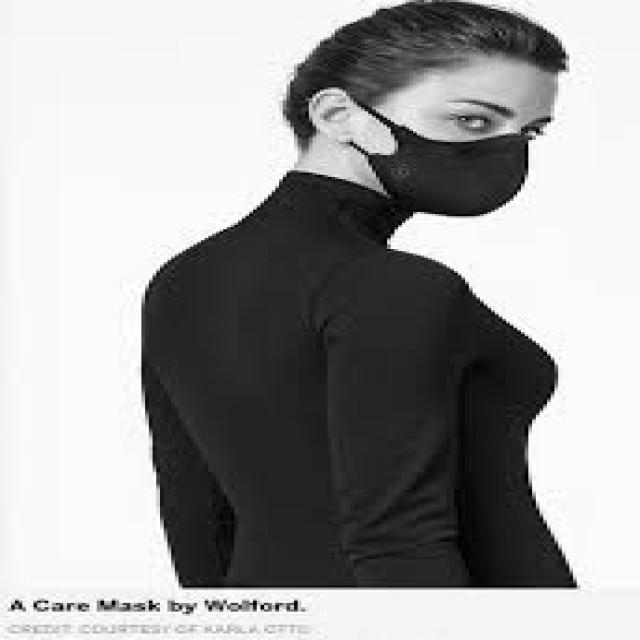with_mask: (346, 98, 532, 216)
